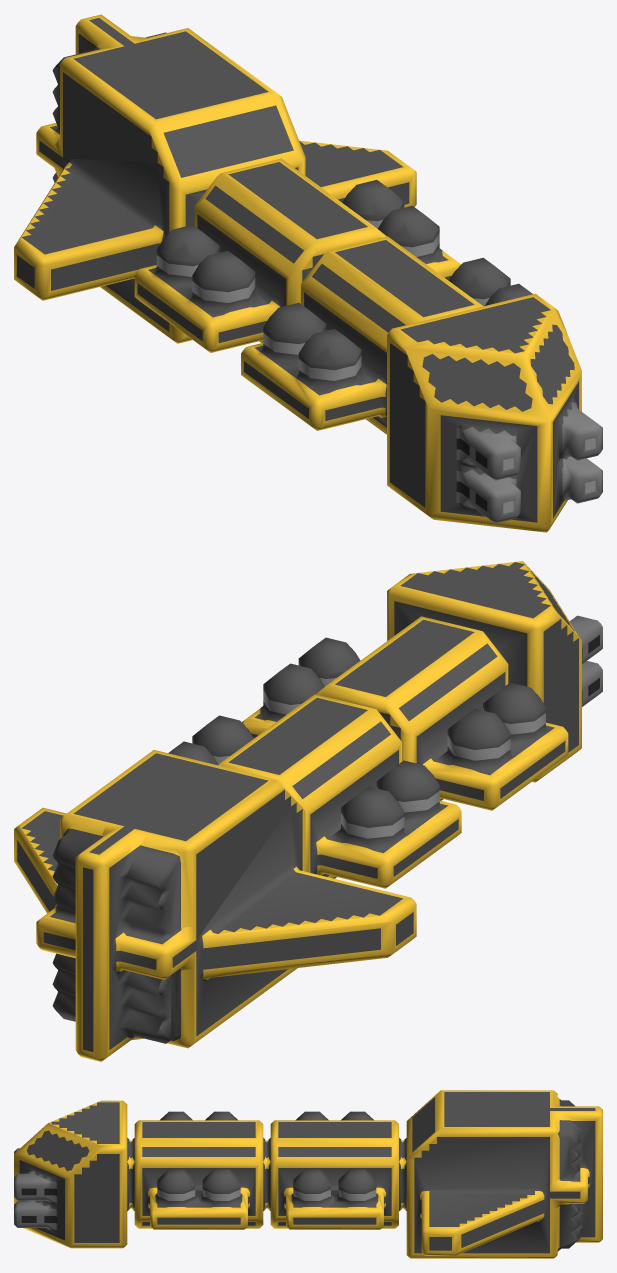
Rendered from mechyrdia-3-mont-imperial-class.obj.
3 views of the same model, one above another, from view 1: azimuth 30°, elevation 25°; view 2: azimuth 150°, elevation 25°; view 3: azimuth 270°, elevation 25° (orthographic). The views are drawn at different scales.
Bounding box in the file's own units: 37 × 19 × 78.
1 material, 1 textured.
